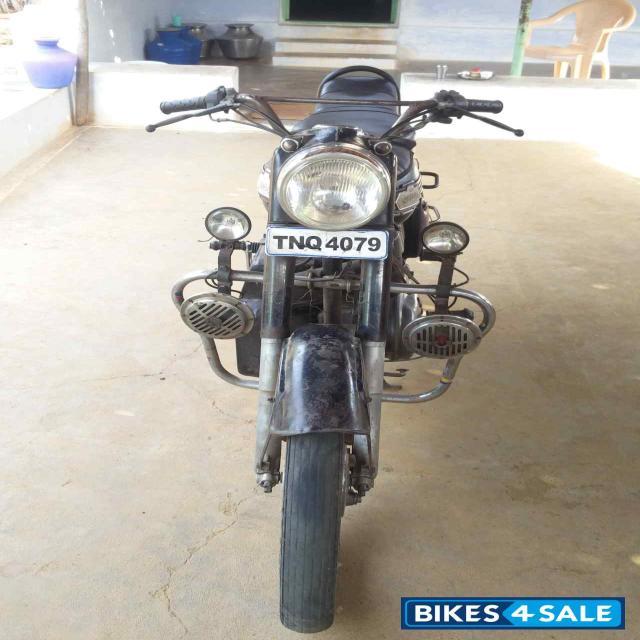number plate: (264, 226, 388, 260)
